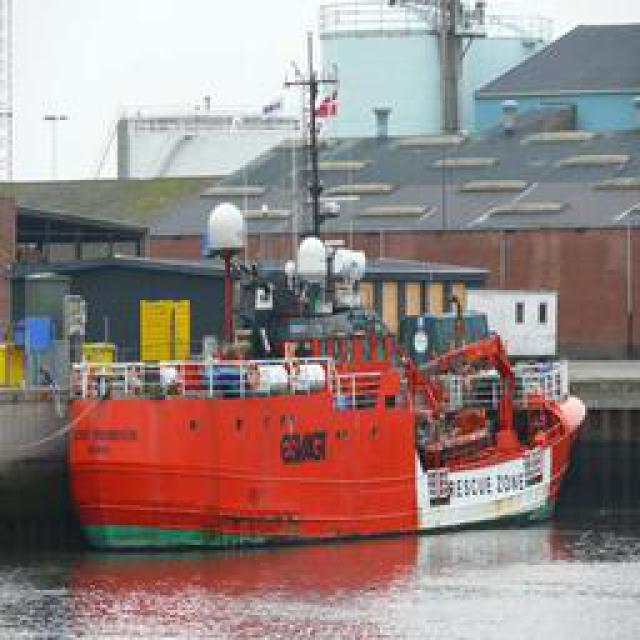Ship: (57, 213, 590, 551)
